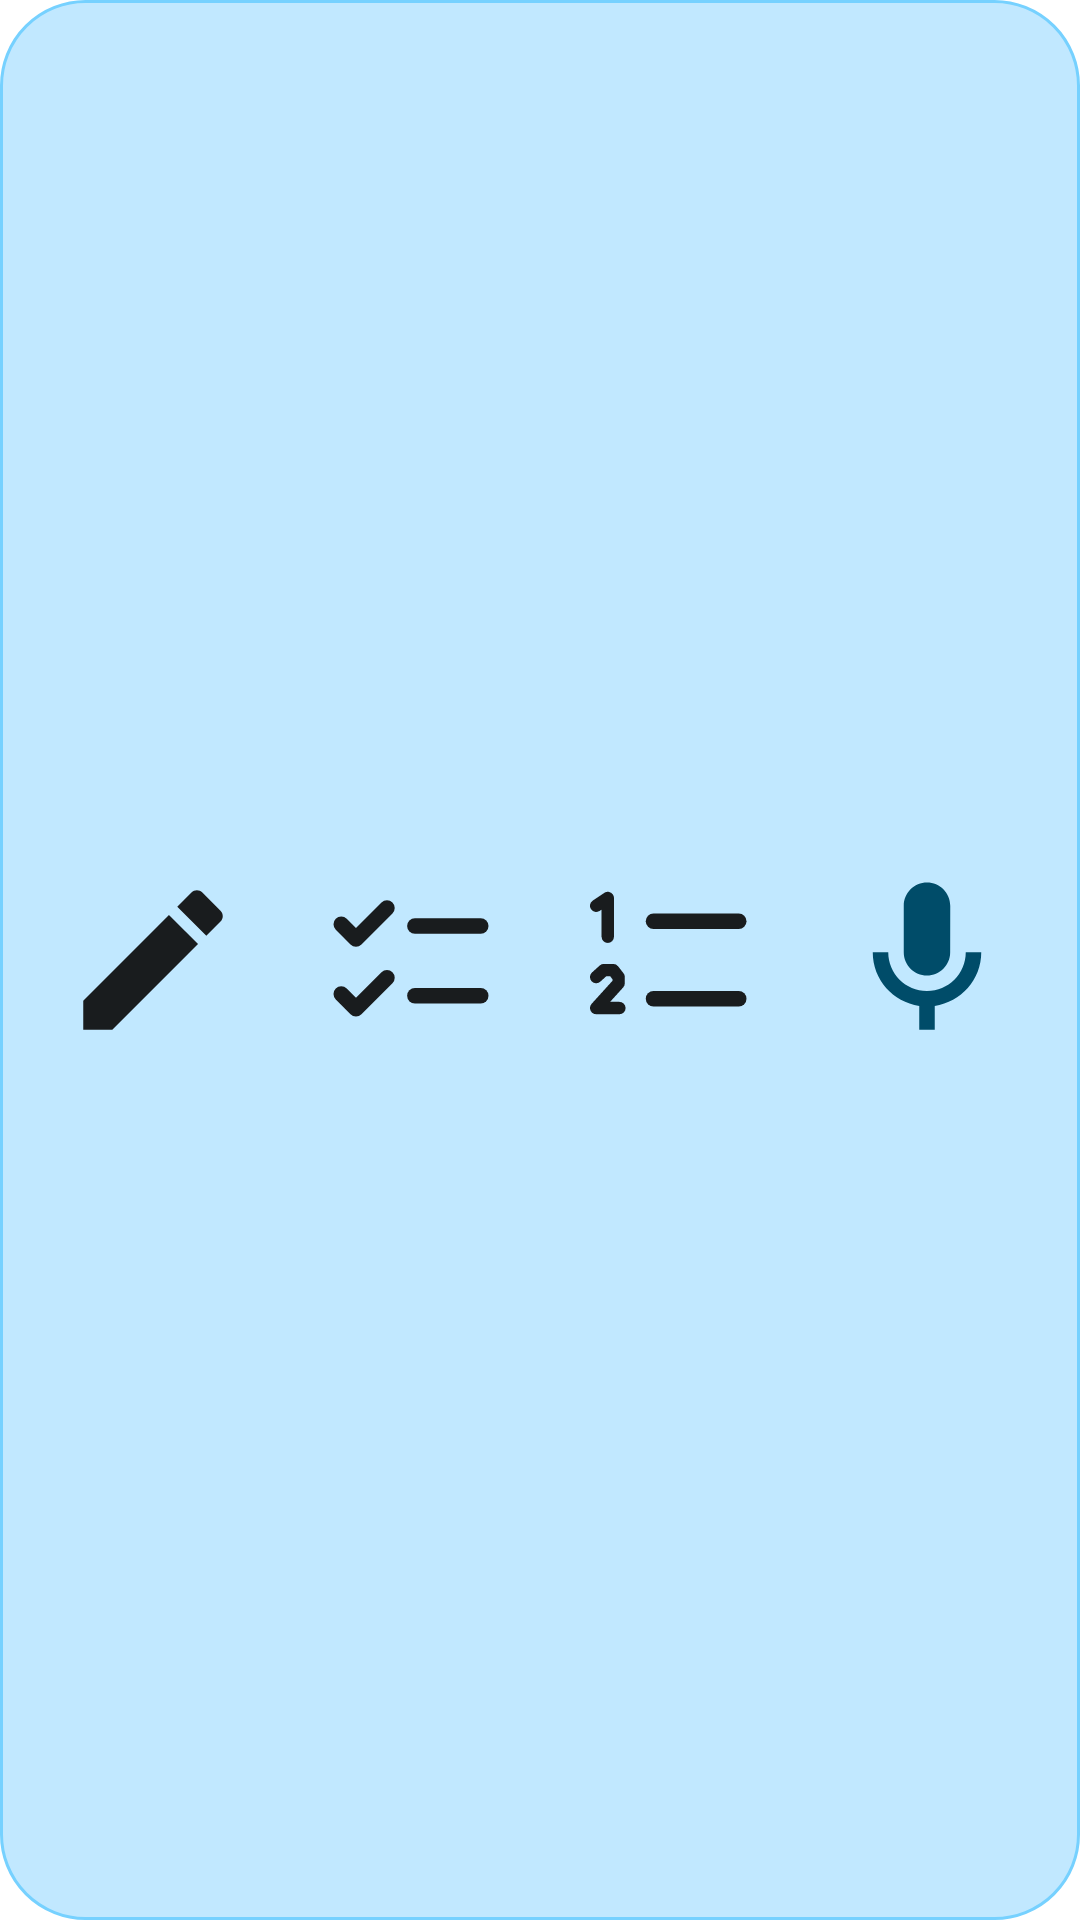

Icons on this 1080x1920 Android screen, each with its box as BBox(x1, y1, x2, y2):
Sesli Not: BBox(872, 882, 982, 1030)
Yeni liste: BBox(333, 900, 489, 1017)
Yeni not: BBox(83, 890, 223, 1030)
Yeni sıralı liste: BBox(590, 891, 747, 1015)
